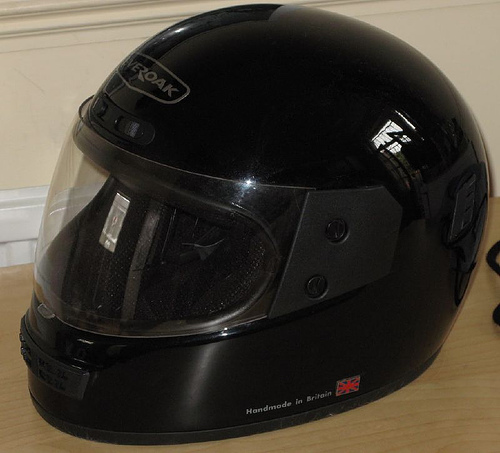helmet: (36, 10, 486, 413)
